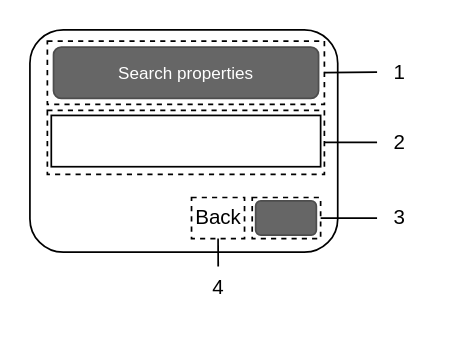
Image size: 450x340. Some labels were removed from this diagram. The shapes that lost their labels are listed below. From the top down, each one's box as (x1, y1, x2, y2) in pixels, then its label:
(50, 114, 321, 167): Search input field
(254, 199, 316, 235): Search
